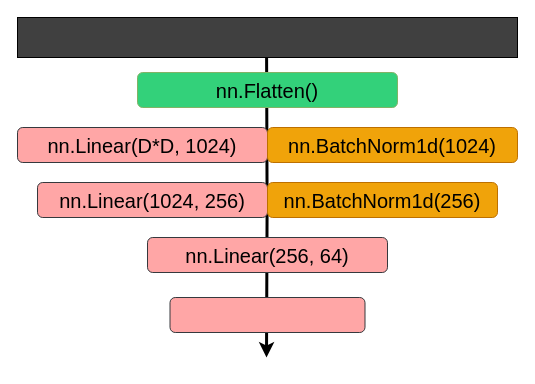
Image size: 535x384. Some labels were removed from this diagram. The shapes that lost their labels are listed below. From the top down, each one's box as (x1, y1, x2, y2) in pixels, then its label:
(16, 16, 518, 58): INPUT IMAGE shape = [D,D]
(169, 296, 365, 332): nn.Linear(64, 1)
